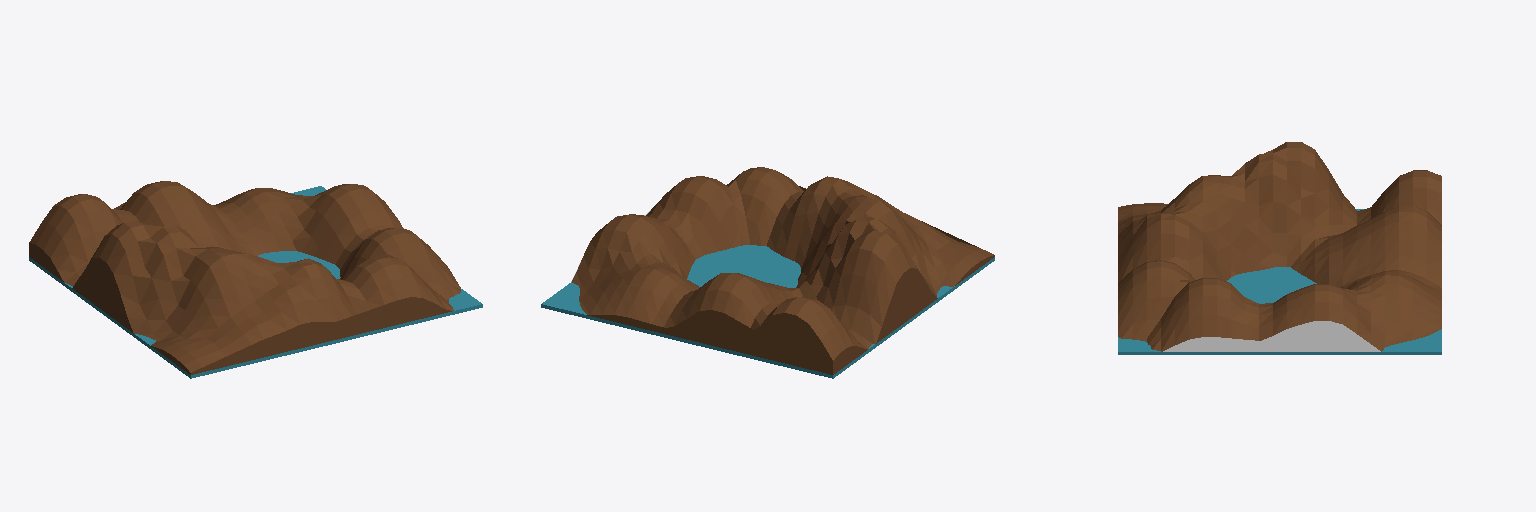
The model's file is terrain.obj.
The picture shows the model from 3 angles: view 1: azimuth 30°, elevation 25°; view 2: azimuth 150°, elevation 25°; view 3: azimuth 270°, elevation 25°; orthographic projection.
Parts seen in each view (by area): view 1: Mesh1 Model; view 2: Mesh1 Model; view 3: Mesh1 Model.
Part boxes in pixels (x1,y1,x2,y2): Mesh1 Model: (29,181,482,378); Mesh1 Model: (541,167,994,378); Mesh1 Model: (1118,142,1441,354).
Bounding box in the file's own units: 0.2275 × 0.082 × 0.218.